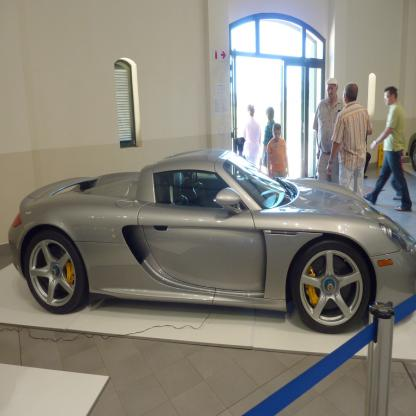Car: (7, 145, 415, 336)
